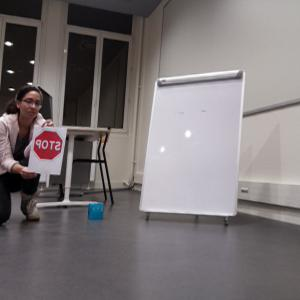stop: (34, 130, 63, 161)
